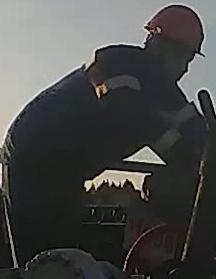helmet: (142, 4, 207, 60)
vest: (2, 51, 192, 182)
